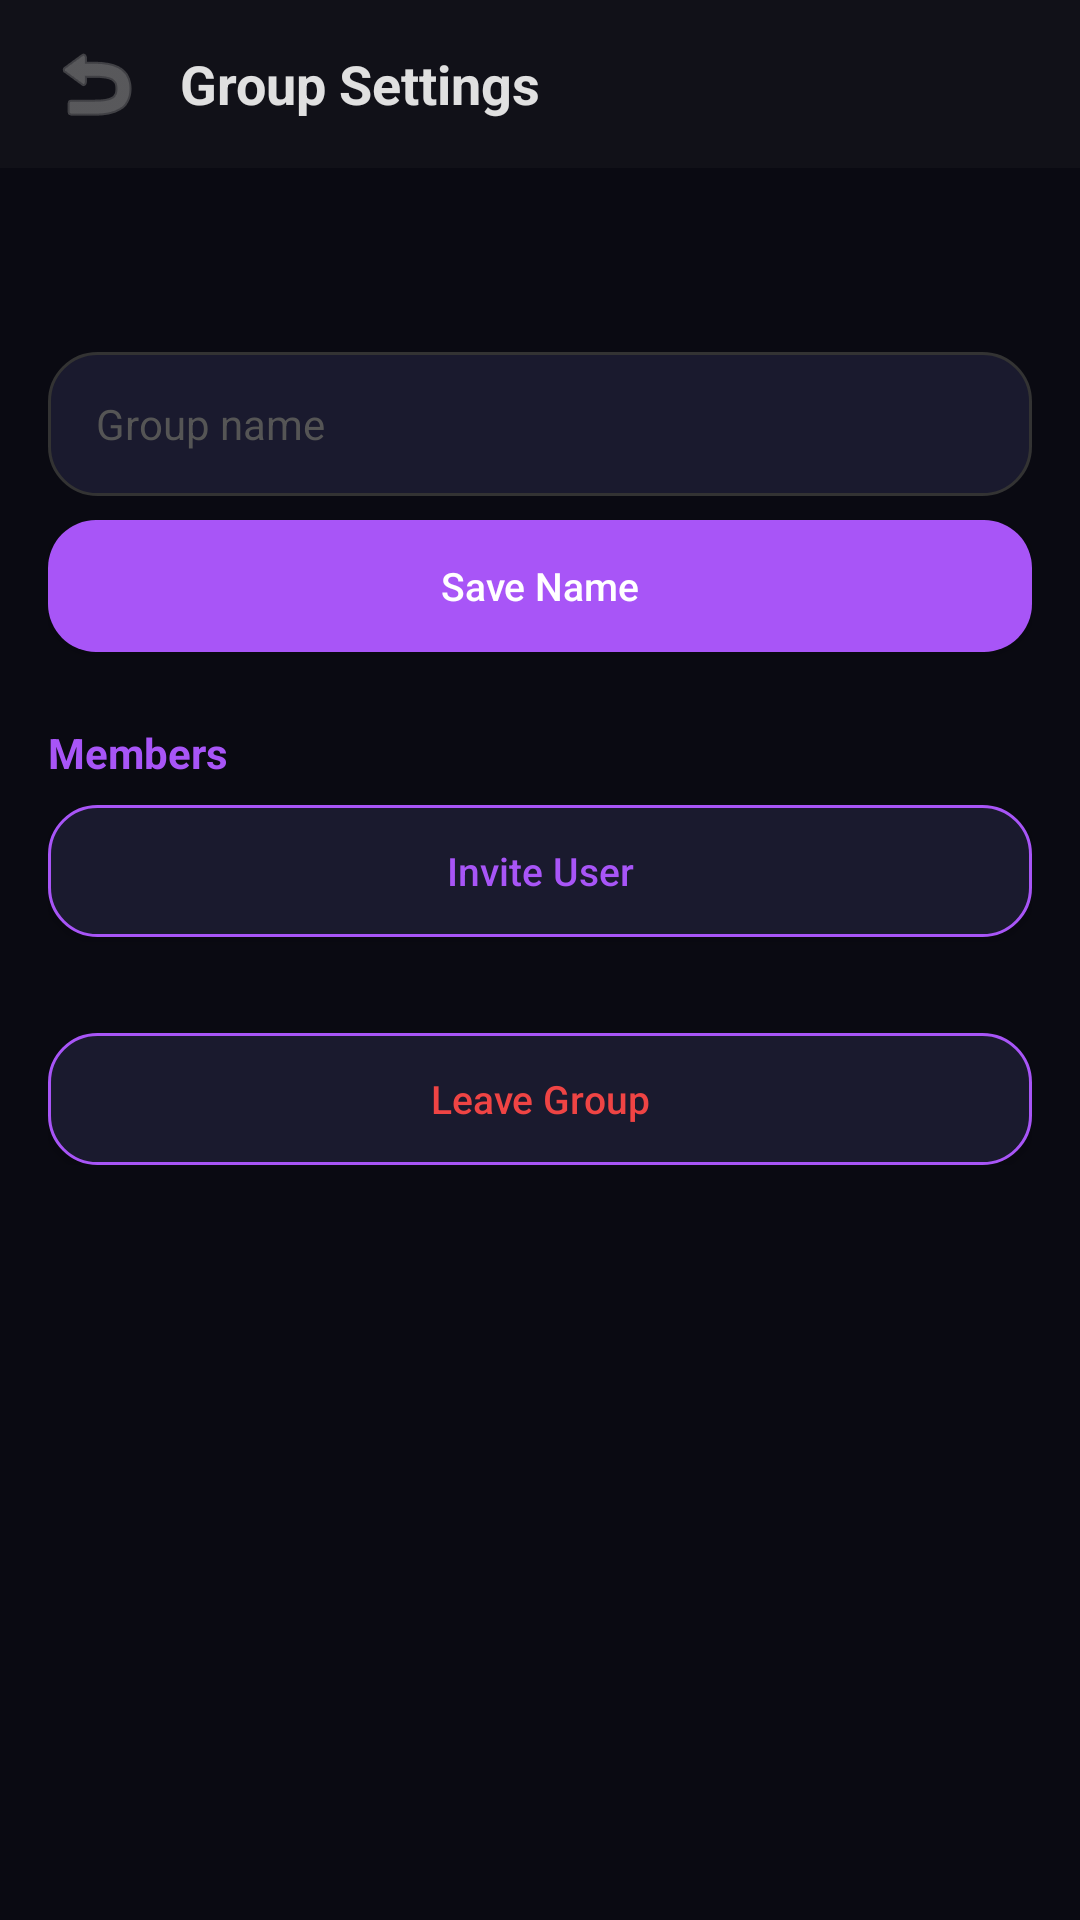

Icon click points for this 1080x1920 phone screenshot, format (x=x, y=y):
Back: (x=97, y=85)
